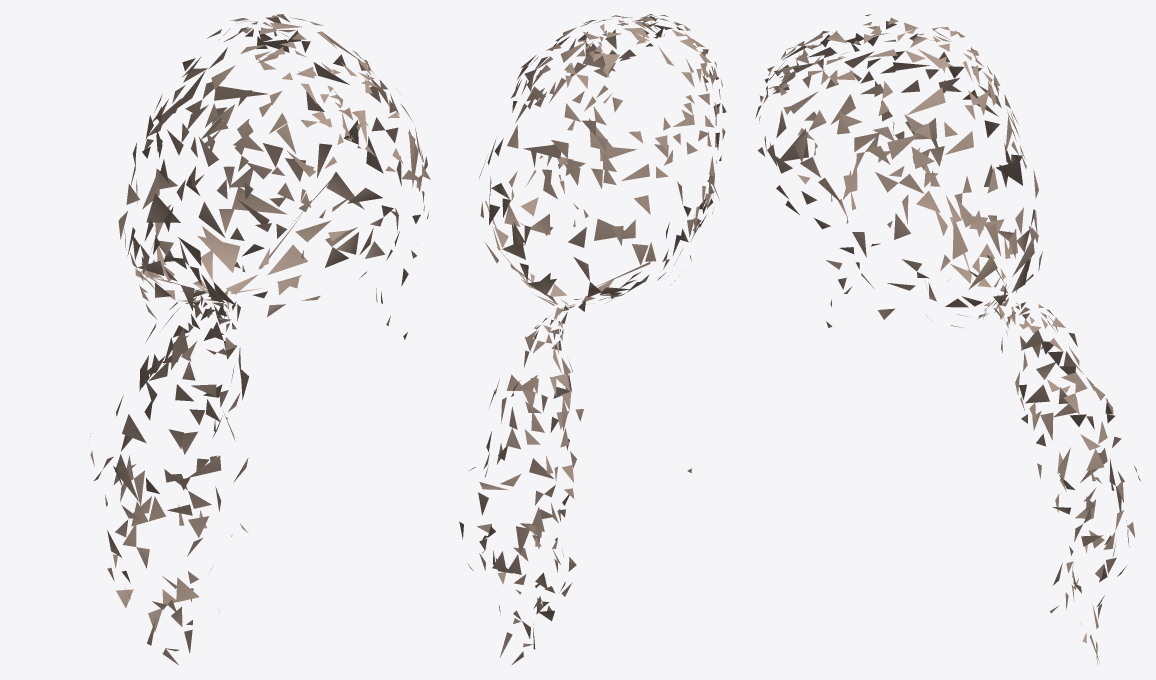
The model's file is female_hair_05_lod2.glb.
The picture shows the model from 3 angles, left to right: view 1: azimuth 30°, elevation 25°; view 2: azimuth 150°, elevation 25°; view 3: azimuth 270°, elevation 25°; orthographic projection. The views are drawn at different scales.
Visible parts, largest first — view 1: female-hair-05; view 2: female-hair-05; view 3: female-hair-05.
Part boxes in pixels (x1,y1,x2,y2): female-hair-05: [90, 14, 430, 664]; female-hair-05: [459, 14, 726, 665]; female-hair-05: [755, 14, 1140, 664].
Size of the model in its own units: 0.2555 by 0.555 by 0.3073.
